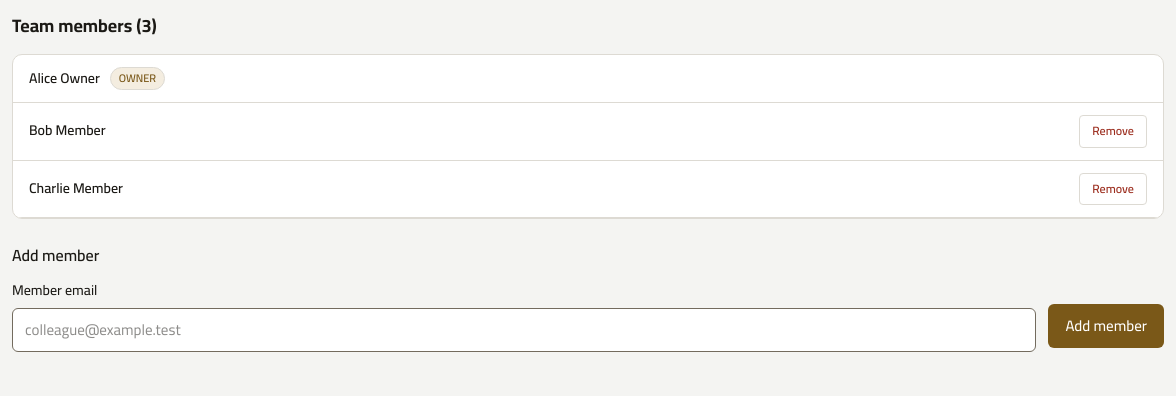
Test: MemberManager Component › displays unknown-user error next to email field when member is not found
The width and height of the screenshot is (1176, 396).
Step 1. Type "notfound@example.test" into the field labelled "Member email" → (524, 330), box x1=12 y1=308 x2=1036 y2=352
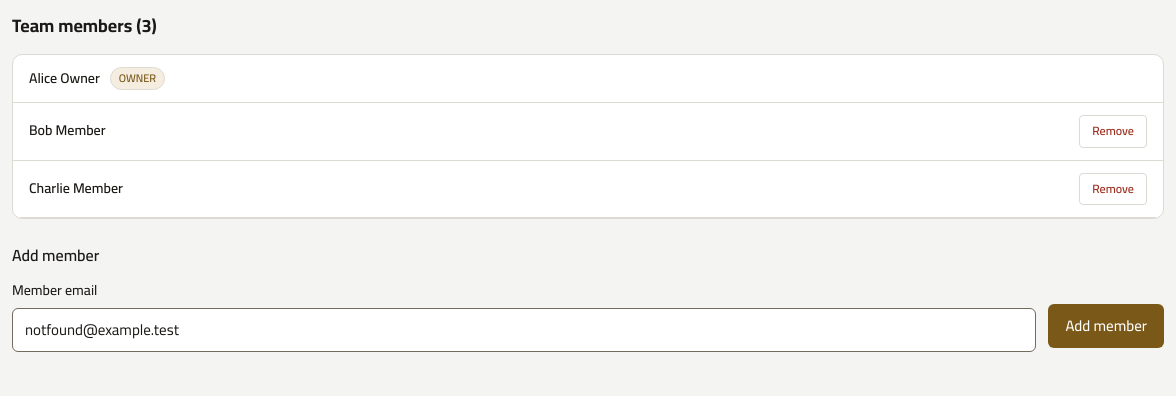
Step 2. Click the button "Add member" → (1106, 326), box x1=1048 y1=304 x2=1164 y2=348
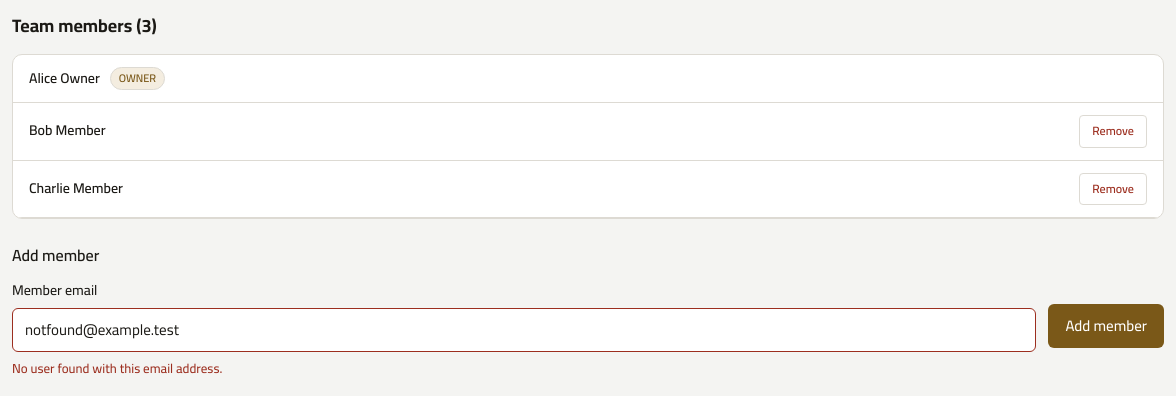
expect the text "No user found with this email address." is shown: met, box x1=12 y1=356 x2=222 y2=380
